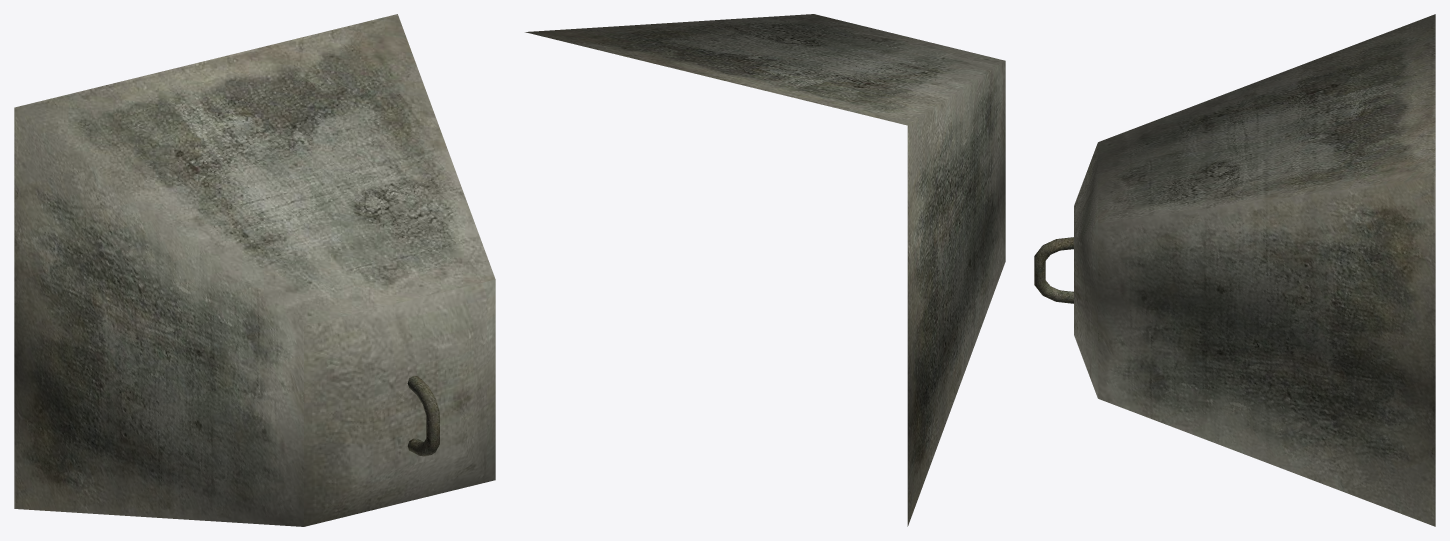
Rendered from military_dragonstooth_egypt.glb.
3 renders of one model, left to right at view 1: azimuth 30°, elevation 25°; view 2: azimuth 150°, elevation 25°; view 3: azimuth 270°, elevation 25°, orthographic. The views are drawn at different scales.
Bounding box in the file's own units: 64 × 64 × 66.56.
1 material, 1 textured.
